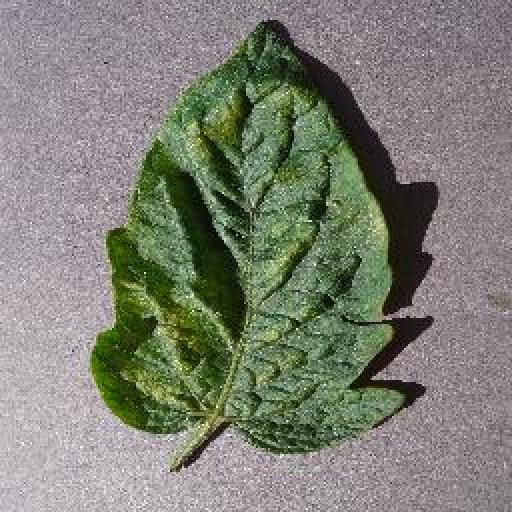disease_tomato: (90, 19, 406, 456)
